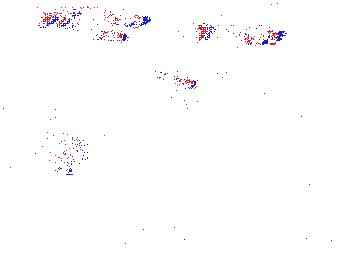X-ray fish: (31, 125, 94, 165)
glassfish: (201, 57, 308, 125)
red belly glassfish: (64, 19, 129, 45), (156, 69, 199, 93), (164, 93, 194, 115)
redtail glassfish: (197, 15, 288, 50), (54, 3, 154, 30)
